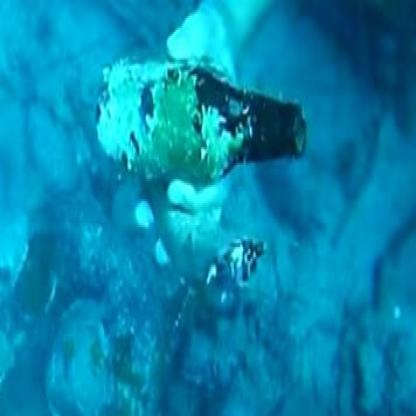gbottle: (86, 54, 322, 179)
